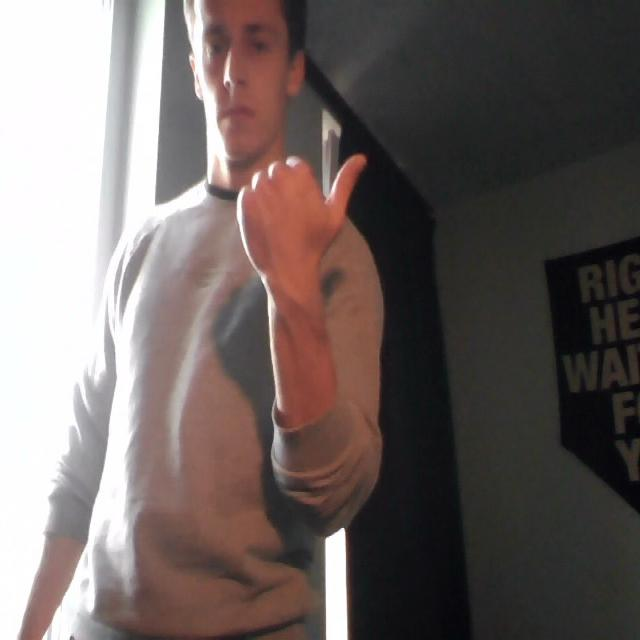right: (230, 138, 374, 278)
